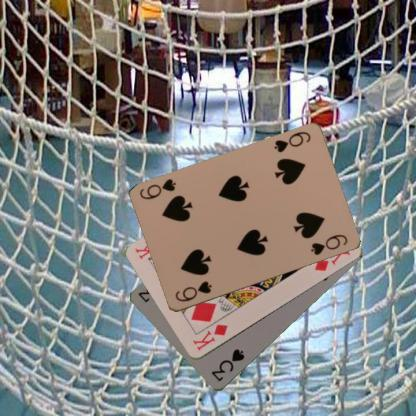3s: (209, 346, 246, 384)
6s: (172, 278, 213, 303), (271, 130, 312, 154)
Kd: (190, 322, 229, 352)
